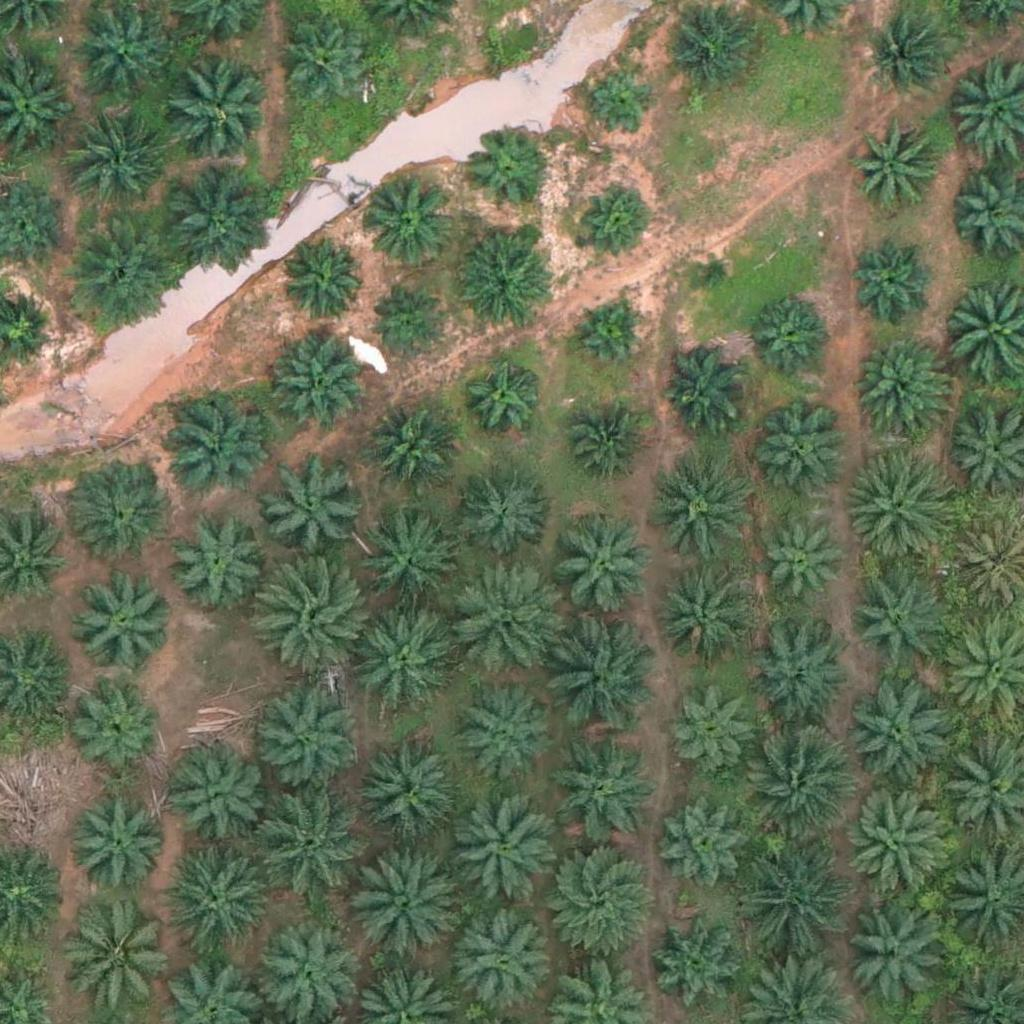Kelapa_Sawit: (446, 560, 559, 674), (65, 224, 178, 337), (154, 45, 267, 158), (538, 838, 651, 951), (445, 795, 558, 908), (156, 839, 269, 952), (739, 721, 851, 835), (736, 839, 848, 953), (543, 616, 655, 730), (59, 105, 171, 218), (158, 168, 270, 281), (846, 451, 958, 564), (351, 844, 463, 957), (255, 789, 367, 902), (249, 679, 361, 792), (256, 559, 368, 672), (65, 902, 177, 1015), (450, 238, 550, 339), (852, 337, 952, 438), (753, 405, 853, 506), (551, 518, 651, 619), (263, 455, 363, 556), (161, 394, 261, 495), (69, 459, 169, 560), (850, 572, 950, 673), (848, 691, 948, 792), (748, 629, 848, 730), (645, 909, 745, 1010), (453, 908, 553, 1009), (452, 679, 552, 780), (351, 609, 451, 710), (355, 742, 455, 843), (166, 746, 266, 847), (71, 794, 171, 895), (74, 569, 174, 670), (662, 3, 762, 103), (651, 460, 751, 560), (266, 341, 366, 441), (165, 510, 265, 610), (850, 799, 950, 899), (844, 905, 944, 1005), (658, 790, 758, 890), (654, 564, 754, 664), (549, 741, 649, 841), (454, 461, 554, 561), (361, 516, 461, 616), (283, 15, 371, 103), (849, 238, 937, 326), (756, 525, 844, 613), (662, 343, 750, 431), (670, 685, 758, 773), (855, 122, 942, 211), (868, 13, 955, 101), (467, 126, 554, 214), (366, 406, 453, 494), (562, 407, 649, 495), (746, 284, 833, 372), (361, 175, 448, 263), (279, 238, 366, 326), (74, 681, 161, 769), (464, 360, 539, 436), (570, 300, 645, 376), (576, 183, 651, 259), (587, 63, 662, 139), (374, 291, 449, 366), (687, 244, 737, 294)
